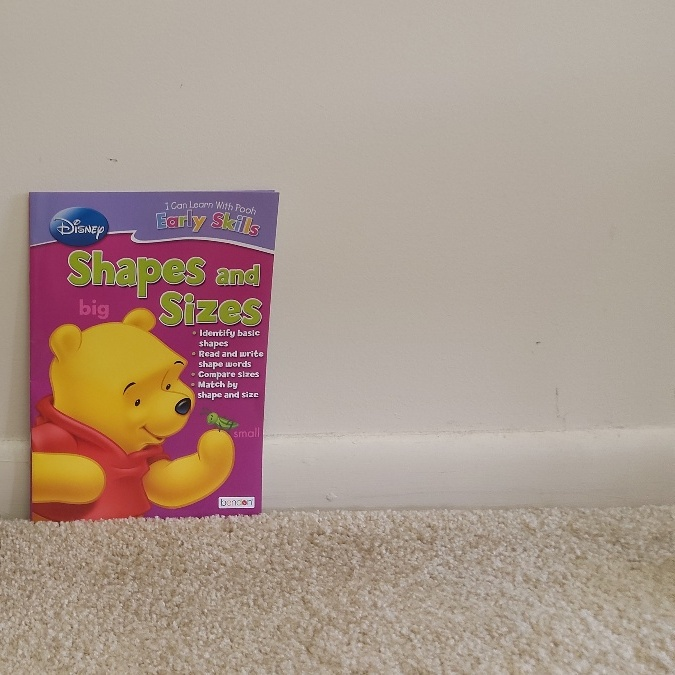book: (28, 193, 259, 516)
